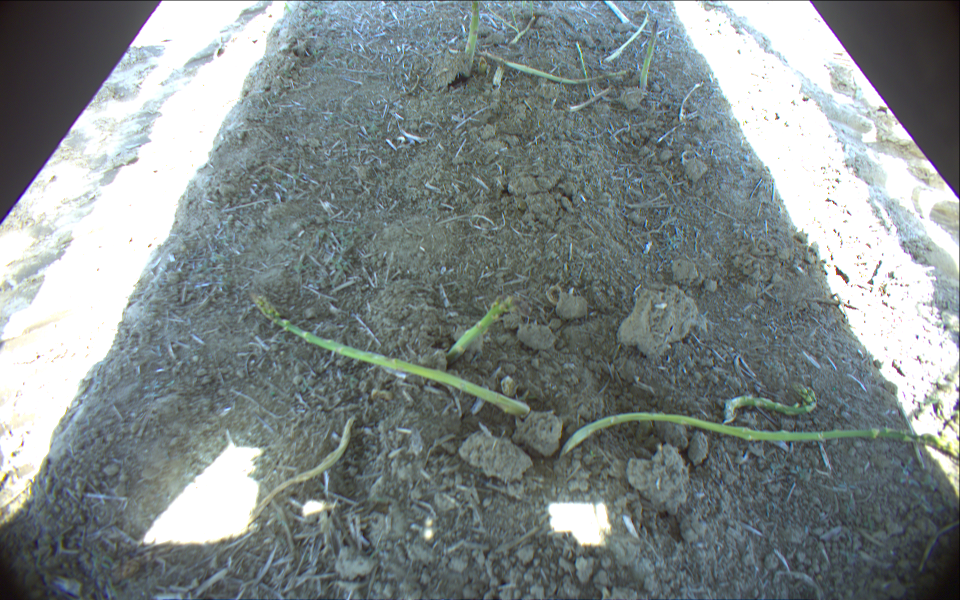aspa: (250, 291, 533, 417), (561, 410, 960, 460), (247, 415, 356, 524), (485, 50, 628, 84), (444, 294, 516, 361), (722, 382, 819, 426), (601, 9, 649, 63), (639, 20, 658, 89), (486, 1, 521, 34), (463, 1, 481, 63), (576, 42, 595, 98), (512, 19, 536, 47), (603, 1, 629, 24)
